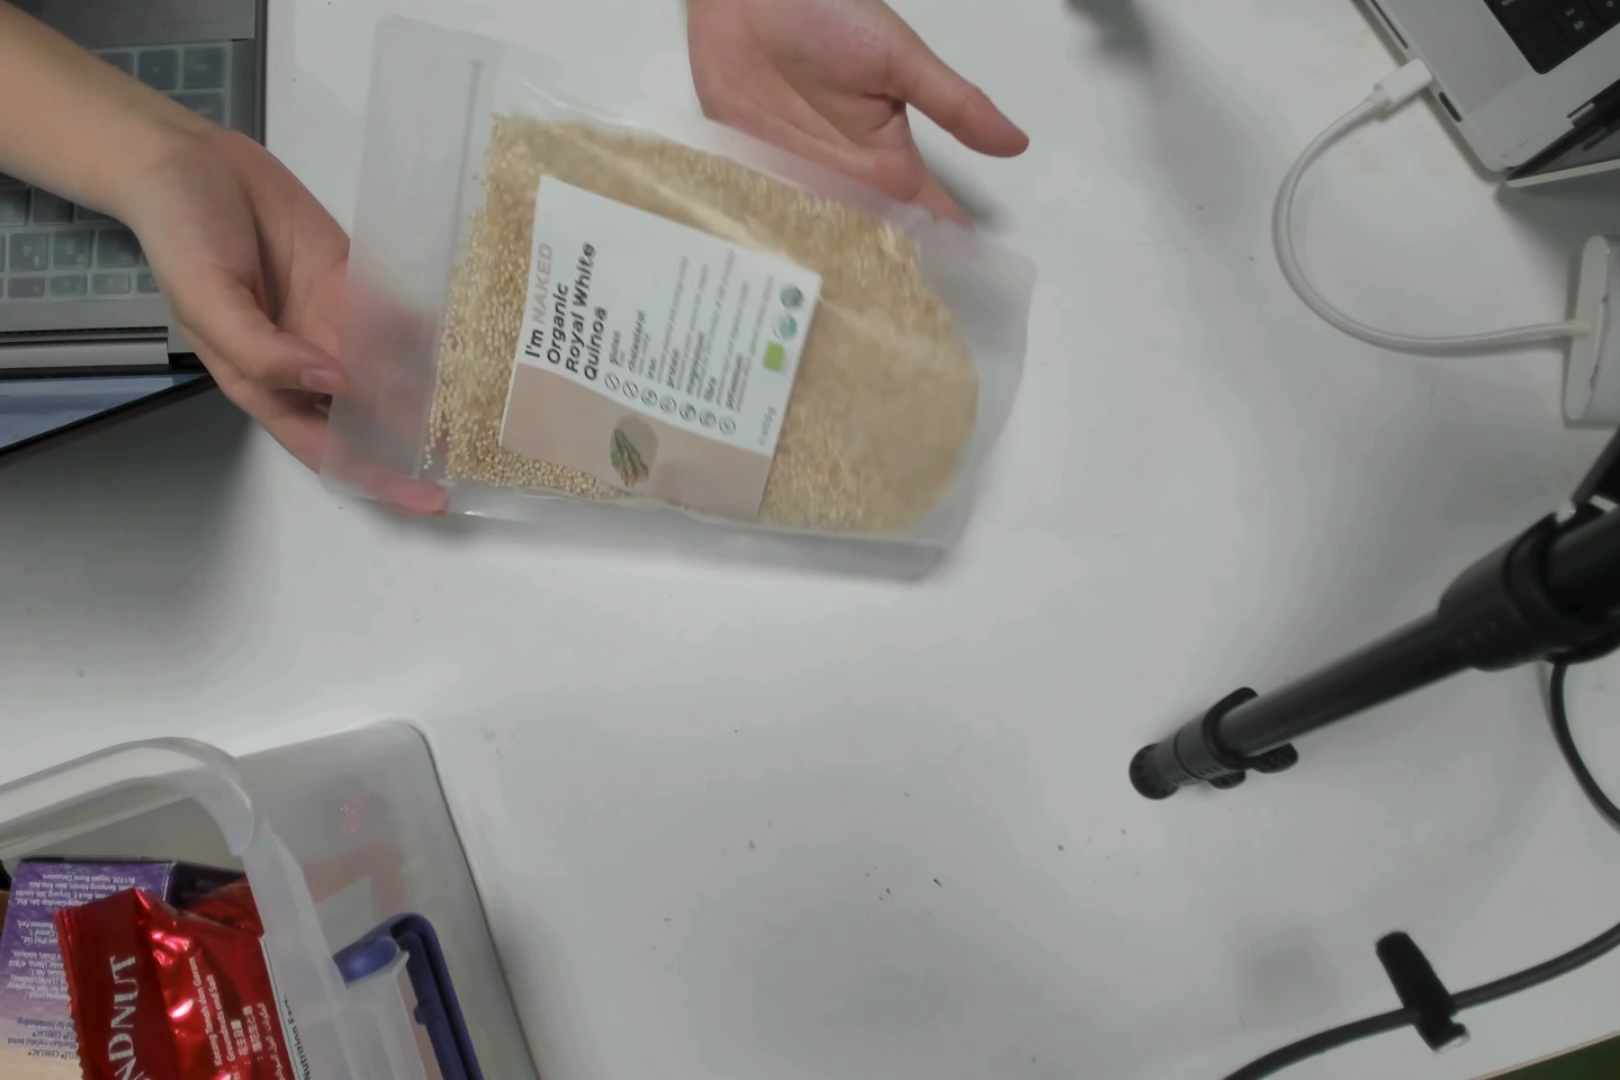Rice(brown-others)_400-499g_Halal_NonHealthy: (442, 96, 1038, 565)
